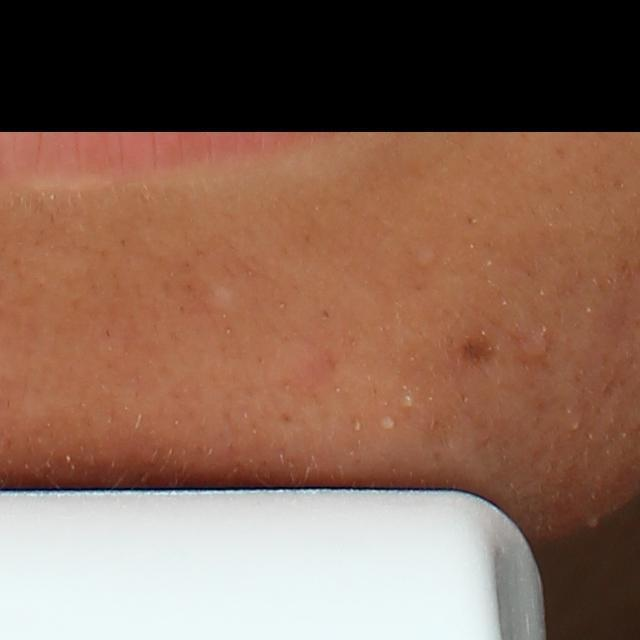comedo: (409, 248, 439, 268), (397, 392, 417, 411)
hypertrophic_scar: (191, 274, 241, 315)
nevus: (460, 338, 499, 365)
